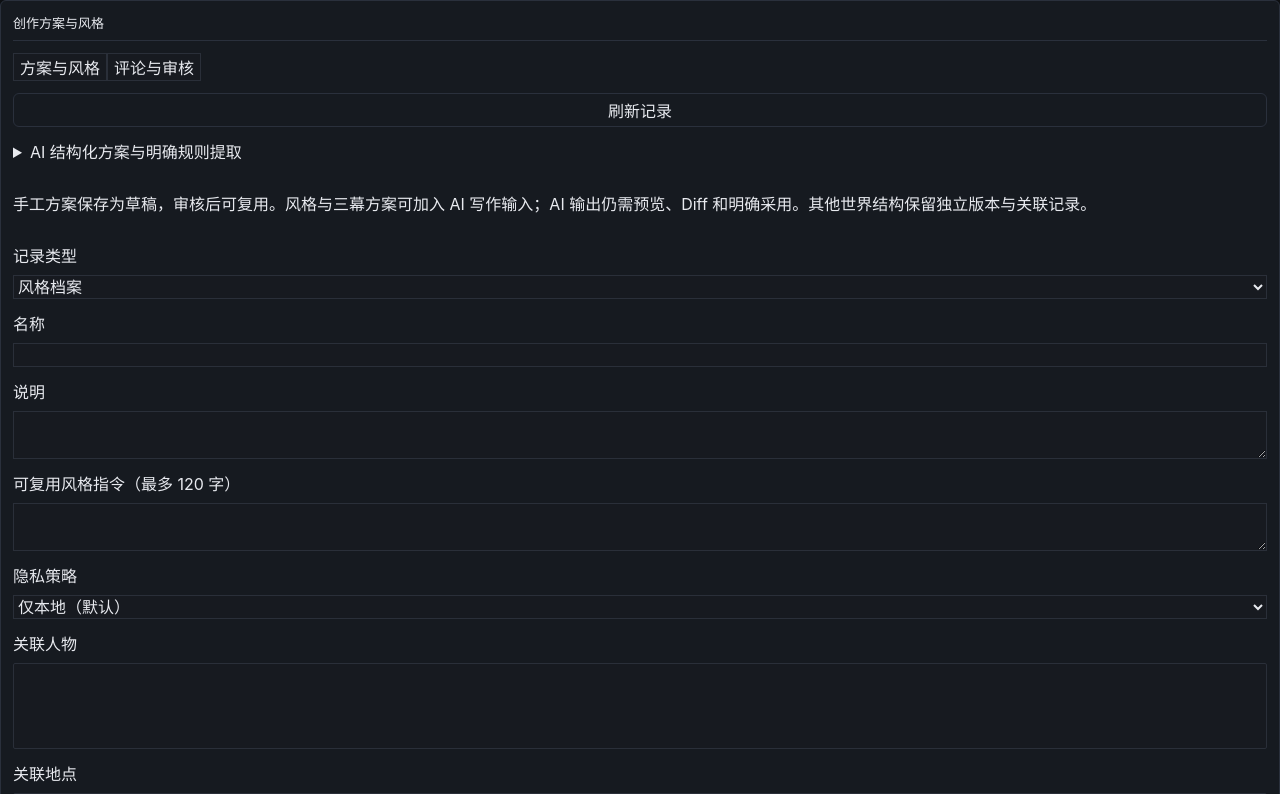
creation workbench › saves a real style draft and keeps errors and input
This screenshot has width=1280, height=794.
Type "克制" into the field labelled "名称". click: (640, 355)
box: [13, 343, 1267, 367]
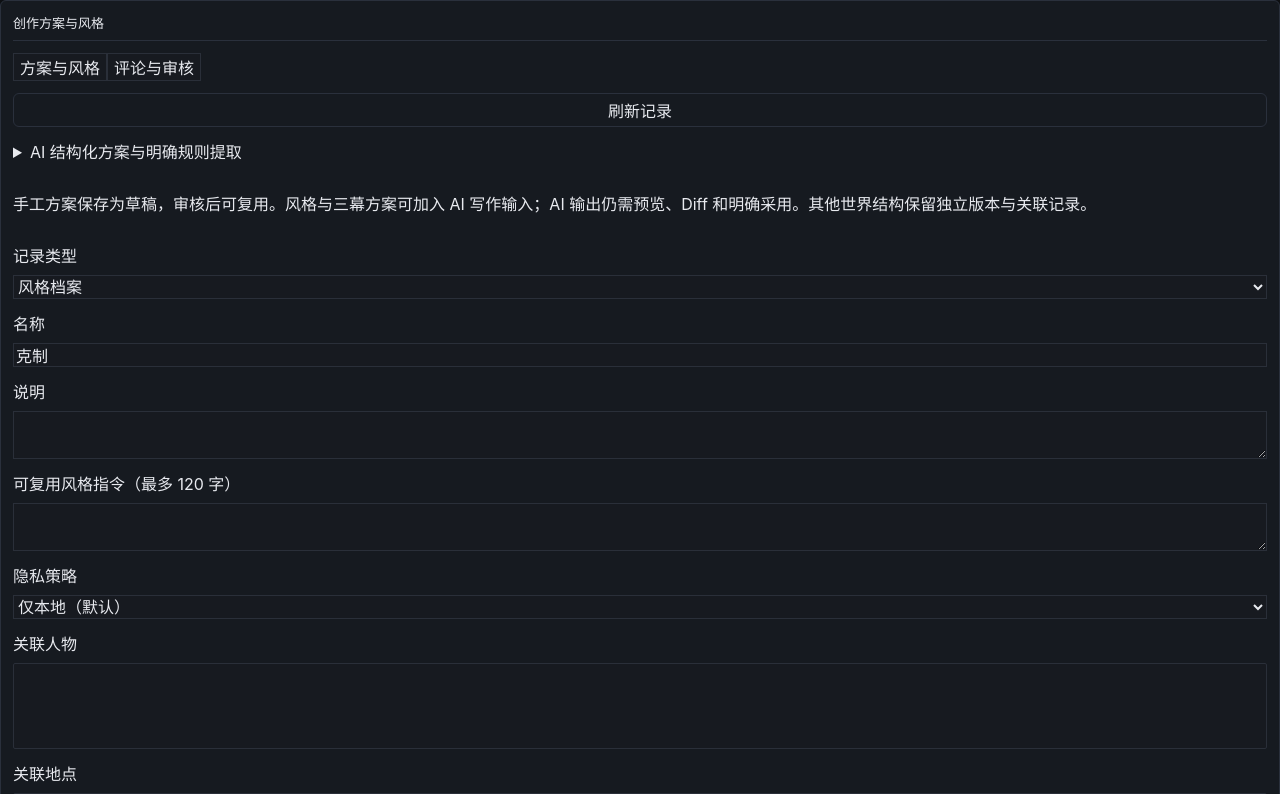
Type "简短句子" into the text box labelled "可复用风格指令（最多 120 字）". click: (640, 527)
box: [13, 503, 1267, 551]
(page scrolled)
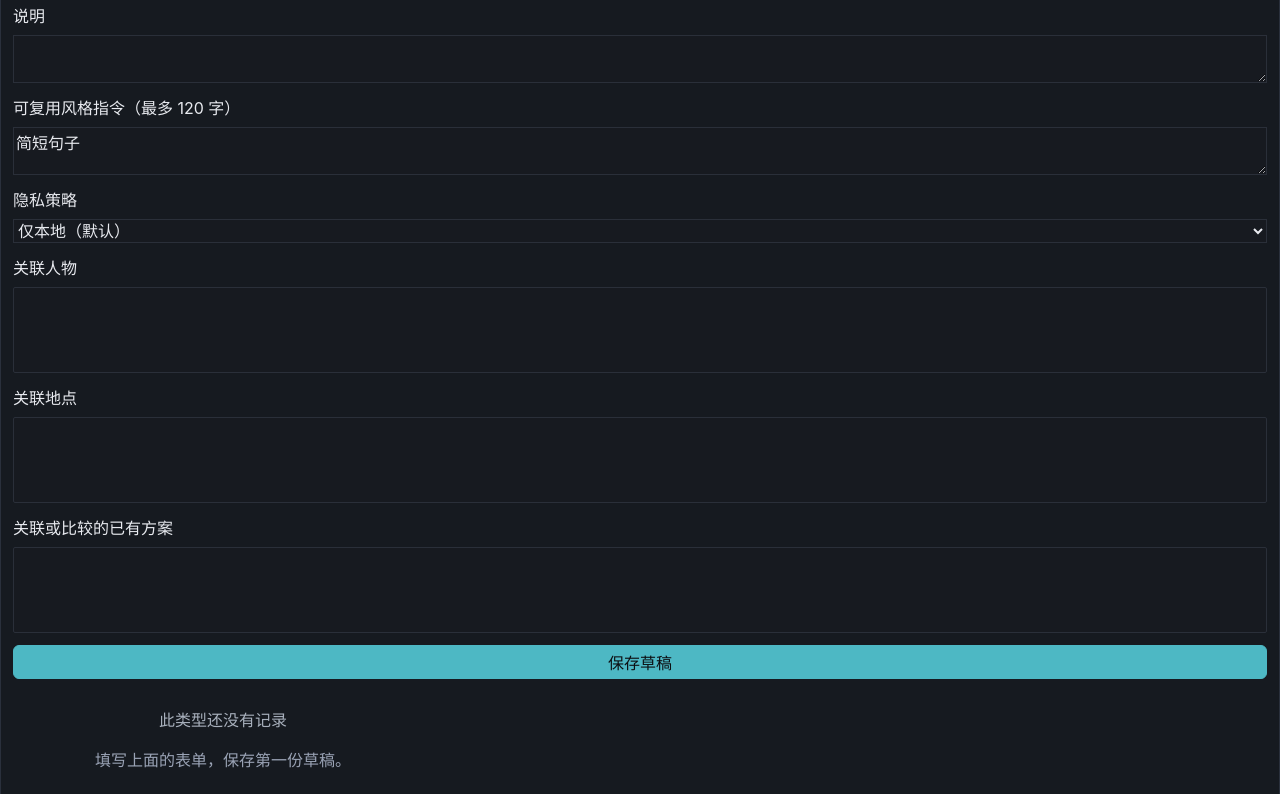
Click the button "保存草稿". click: (640, 662)
box: [13, 645, 1267, 679]
(page scrolled)
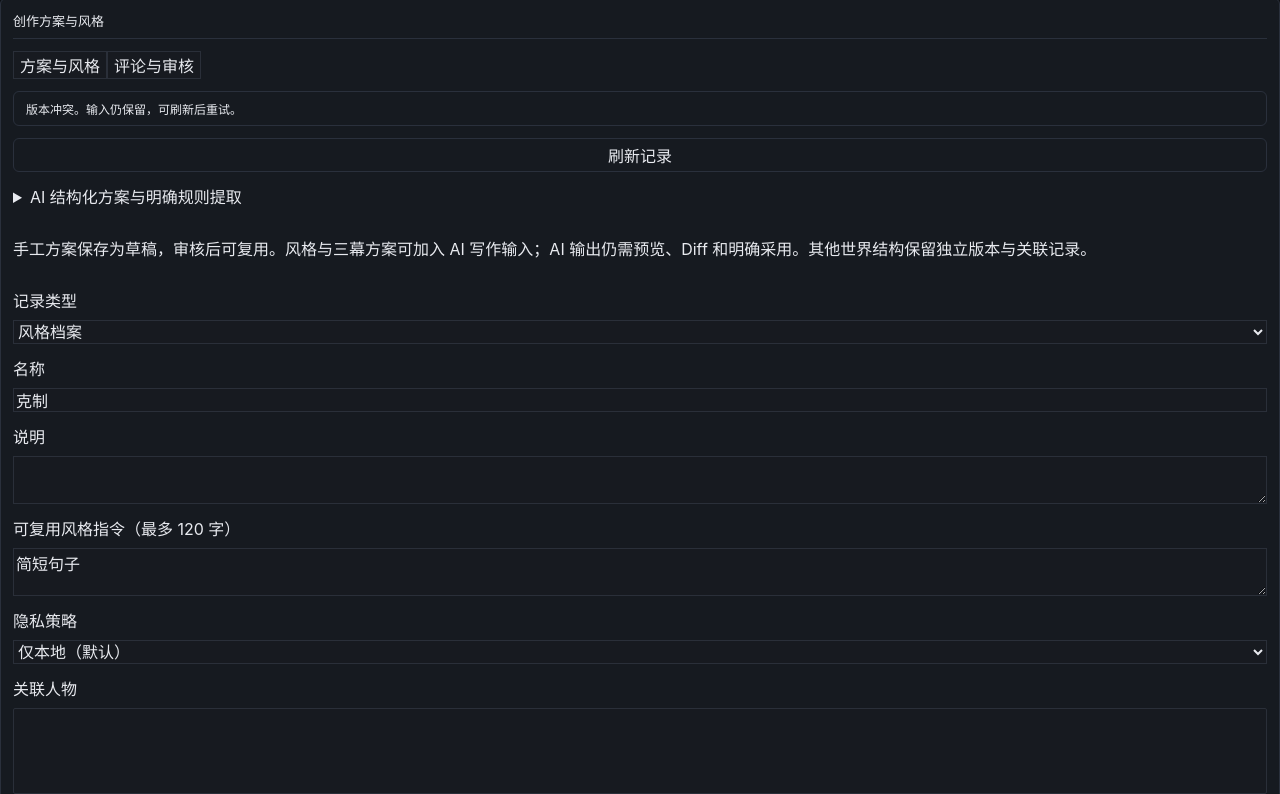
Check: the text "版本冲突。输入仍保留，可刷新后重试。" is shown, box [13, 91, 1267, 126]
